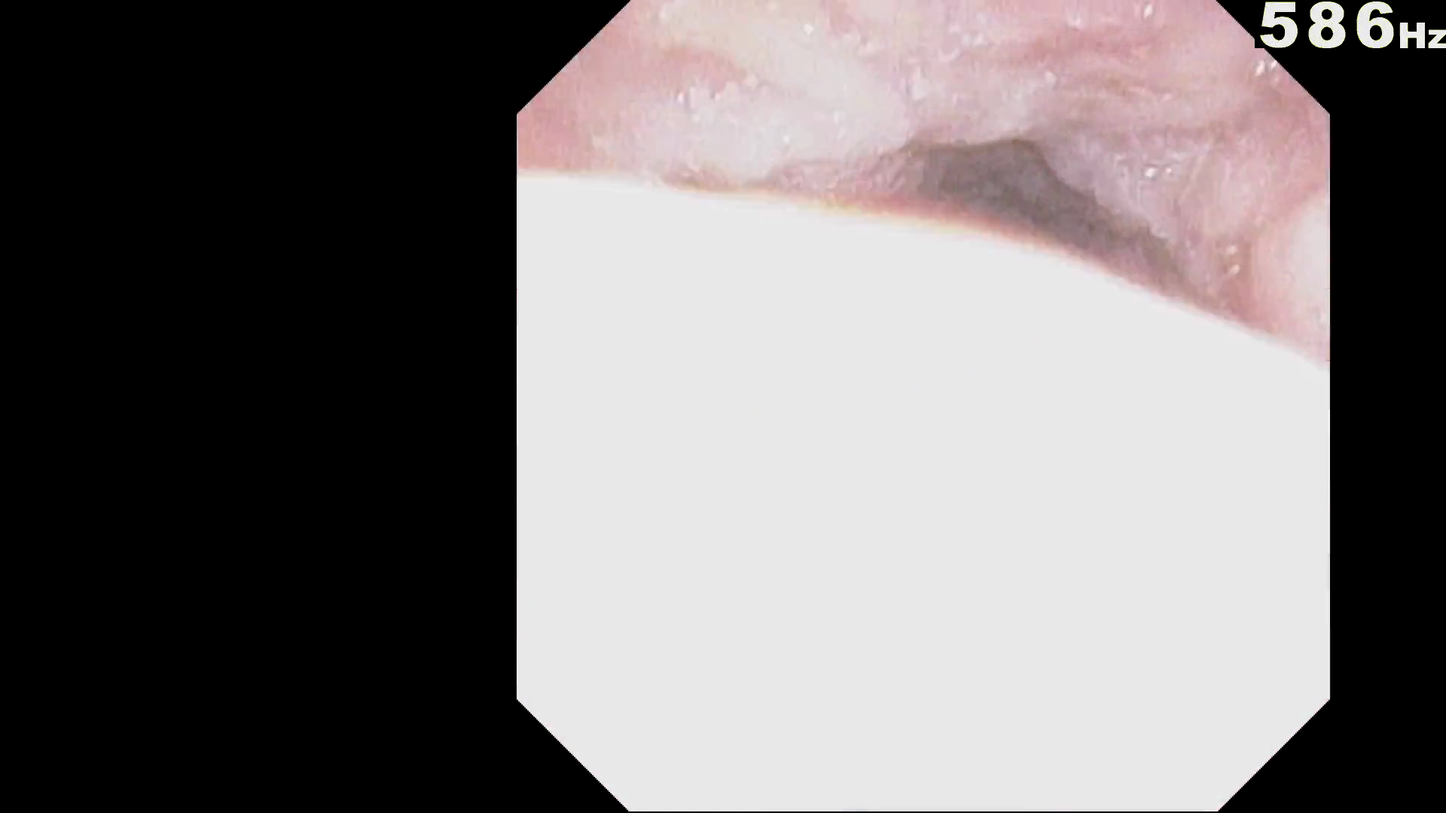epiglottis: (641, 269, 1293, 572)
